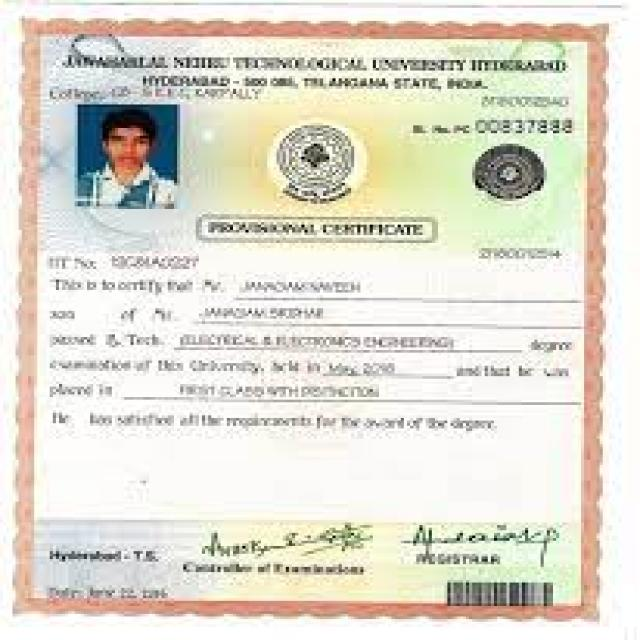degree: (162, 332, 492, 350)
signature: (204, 524, 385, 573), (414, 523, 576, 568)
stamp: (269, 114, 374, 209)
